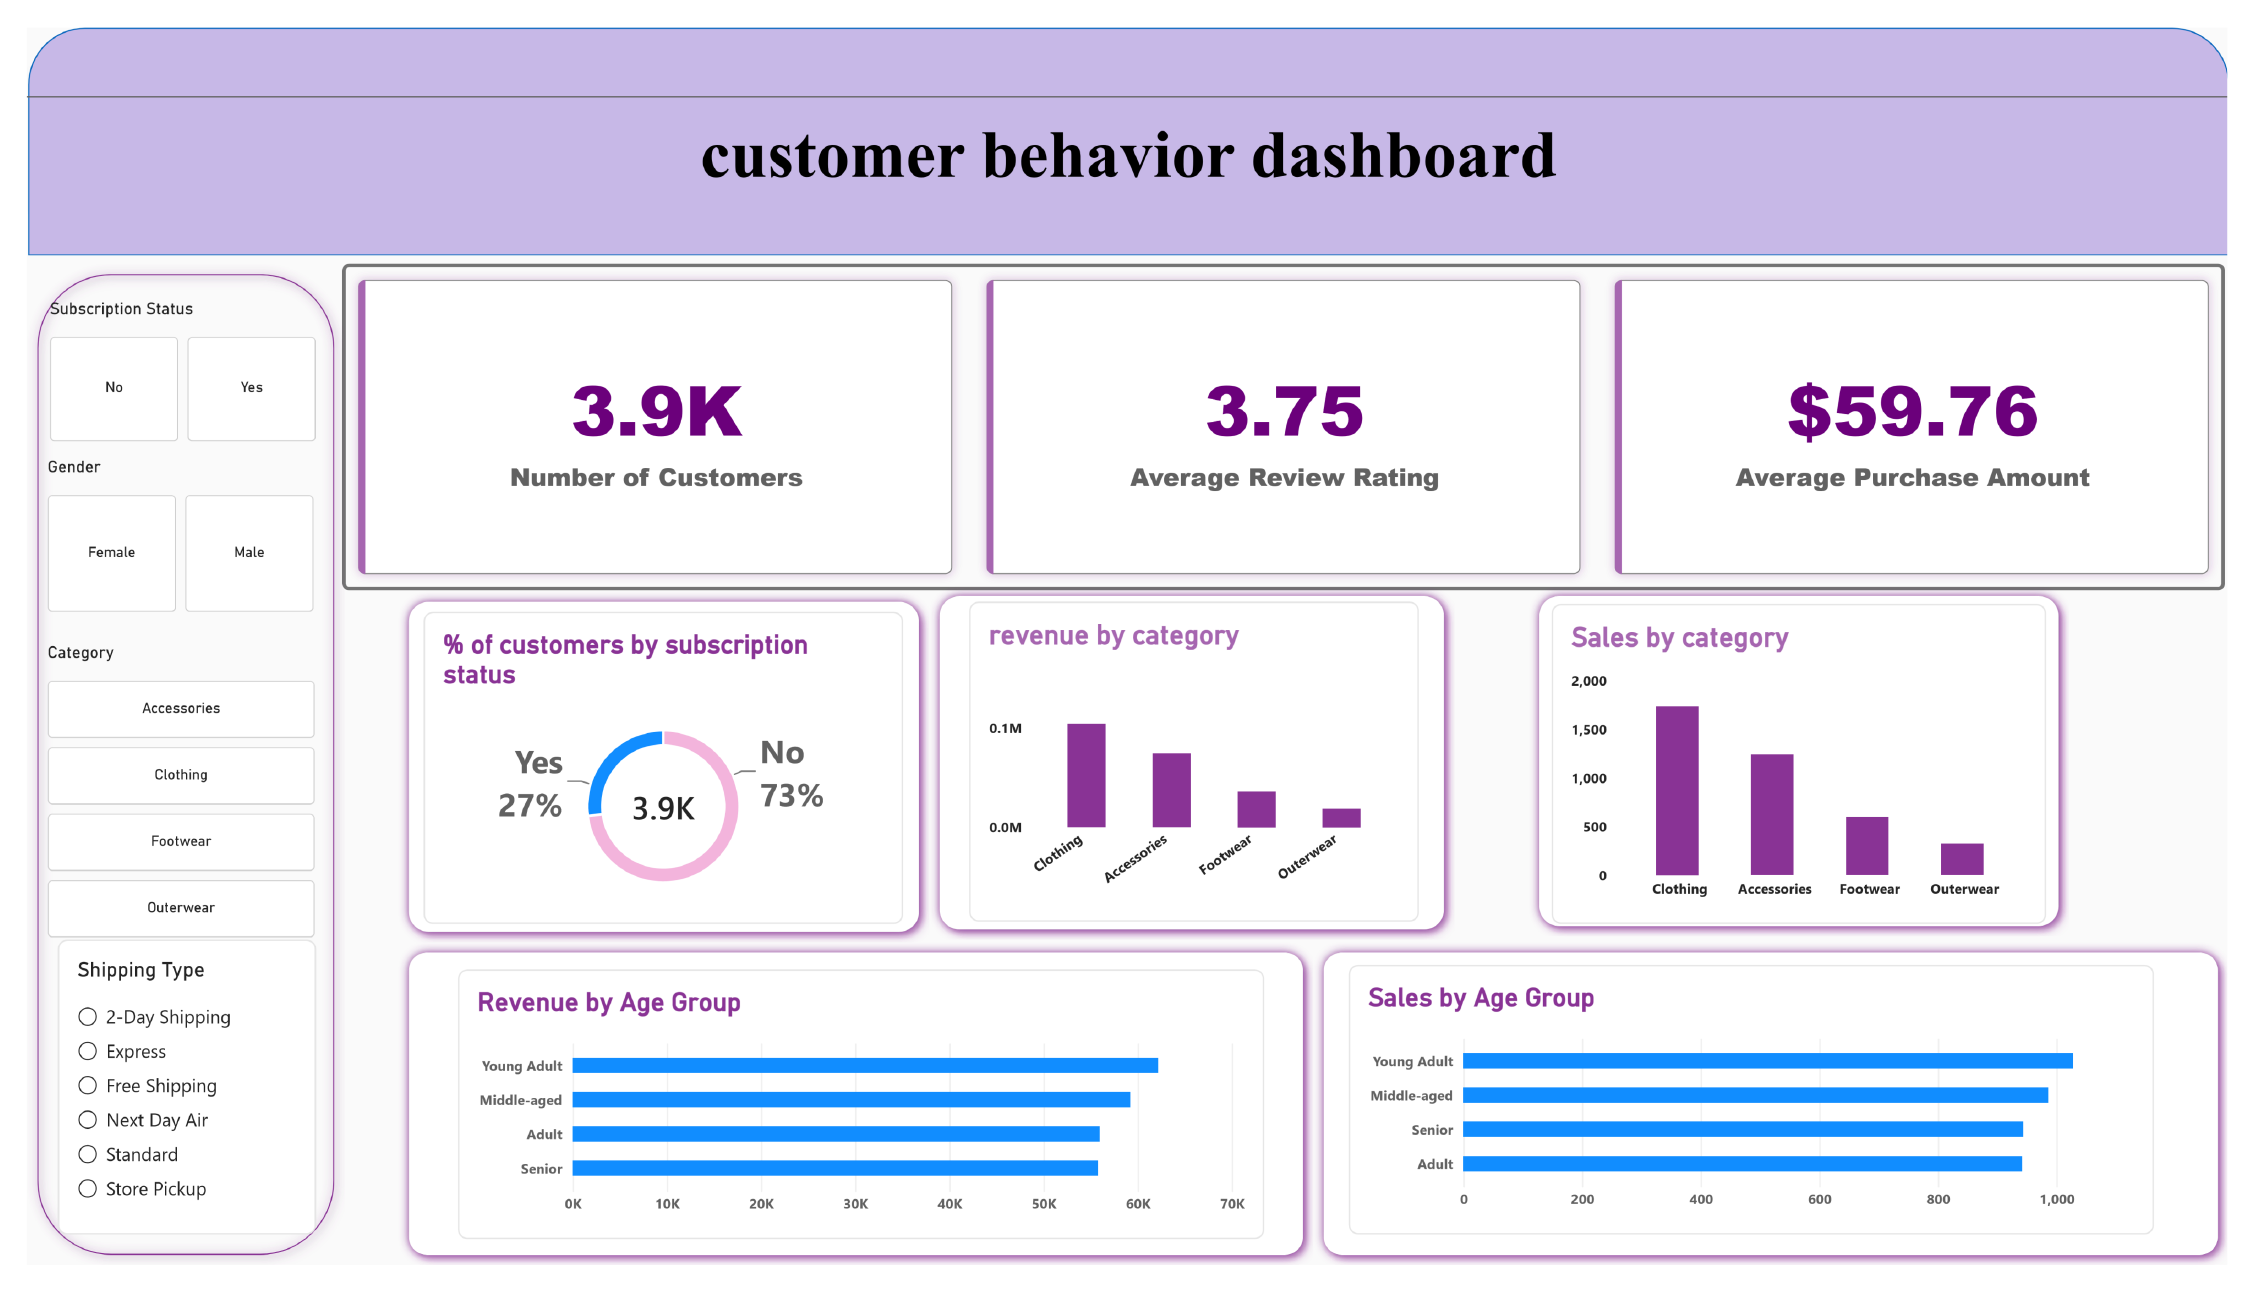

The dashboard page shown, as its layout file describes it:
{"tool":"powerbi","page":{"name":"Page 1","canvas":[1920,1080],"ordinal":0},"visuals":[{"type":"cardVisual","fields":{"Data":["customer.Number of Customers","customer.Average Review Rating","customer.Average Purchase Amount"]},"box":[275.1,206.3,1645,285.9],"z":0},{"type":"shape","box":[0.7,-0.3,1920.4,199.7],"z":1000},{"type":"textbox","box":[0,59.7,1921.9,95.9],"z":2000},{"type":"shape","box":[1310.2,486.8,470.5,305.8],"z":3000},{"type":"shape","box":[787.2,486.8,457.8,309.5],"z":4000},{"type":"shape","box":[323.9,492.2,463.3,305.8],"z":5000},{"type":"donutChart","title":"% of customers by subscription status","fields":{"Category":["customer.subscription_status"],"Y":["CountNonNull(customer.customer_id)"]},"box":[345.6,510.3,418,271.4],"z":6000},{"type":"columnChart","title":"revenue by category ","fields":{"Y":["Sum(customer.purchase_amount)"],"Category":["customer.category"]},"box":[821.6,501.3,392.7,278.7],"z":7000},{"type":"columnChart","title":"Sales by category ","fields":{"Category":["customer.category"],"Y":["CountNonNull(customer.customer_id)"]},"box":[1330.1,503.1,430.7,278.7],"z":8000},{"type":"shape","box":[0,206.3,276.9,874.1],"z":9000},{"type":"advancedSlicerVisual","fields":{"Values":["customer.subscription_status"]},"box":[19.9,237.1,233.4,124.9],"z":10000},{"type":"advancedSlicerVisual","fields":{"Values":["customer.gender"]},"box":[18.1,374.6,233.4,135.7],"z":11000},{"type":"advancedSlicerVisual","fields":{"Values":["customer.category"]},"box":[18.1,537.5,233.4,258.8],"z":12000},{"type":"listSlicer","fields":{"Values":["customer.shipping_type"]},"box":[27.1,796.3,224.4,257],"z":13000},{"type":"shape","box":[323.9,798.1,798.1,282.3],"z":14000},{"type":"clusteredBarChart","title":"Revenue by Age Group","fields":{"Y":["Sum(customer.purchase_amount)"],"Category":["customer.age_group"]},"box":[376.4,821.6,702.1,235.3],"z":15000},{"type":"shape","box":[1122,798.1,798.1,282.3],"z":16000},{"type":"clusteredBarChart","title":"Sales by Age Group","fields":{"Y":["CountNonNull(customer.customer_id)"],"Category":["customer.age_group"]},"box":[1152.8,818,702.1,235.3],"z":17000}]}

Visuals, with their boxes in screenshot pixels (x1, y1, x2, y2), scaled from the page's 1920x1080 canvas onto the 2255x1293 screenshot:
cardVisual - customer.Number of Customers x customer.Average Review Rating: bbox(323, 247, 2254, 589)
shape: bbox(1, 0, 2254, 239)
textbox: bbox(0, 71, 2254, 186)
shape: bbox(1539, 583, 2091, 949)
shape: bbox(925, 583, 1462, 953)
shape: bbox(380, 589, 925, 955)
"% of customers by subscription status" donutChart: bbox(406, 611, 897, 936)
"revenue by category " columnChart: bbox(965, 600, 1426, 934)
"Sales by category " columnChart: bbox(1562, 602, 2068, 936)
shape: bbox(0, 247, 325, 1292)
advancedSlicerVisual - customer.subscription_status: bbox(23, 284, 297, 433)
advancedSlicerVisual - customer.gender: bbox(21, 448, 295, 611)
advancedSlicerVisual - customer.category: bbox(21, 644, 295, 953)
listSlicer - customer.shipping_type: bbox(32, 953, 295, 1261)
shape: bbox(380, 956, 1318, 1292)
"Revenue by Age Group" clusteredBarChart: bbox(442, 984, 1267, 1265)
shape: bbox(1318, 956, 2254, 1292)
"Sales by Age Group" clusteredBarChart: bbox(1354, 979, 2179, 1261)
